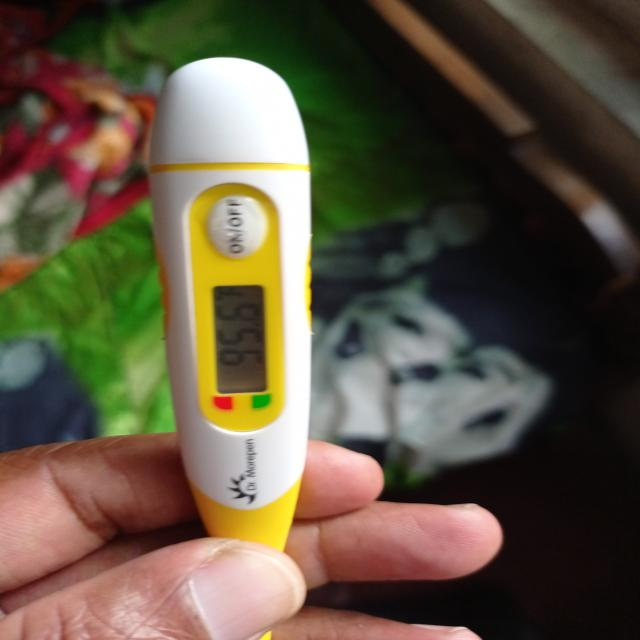display: (214, 284, 264, 393)
frame: (216, 287, 262, 374)
gauge: (148, 57, 314, 640)
